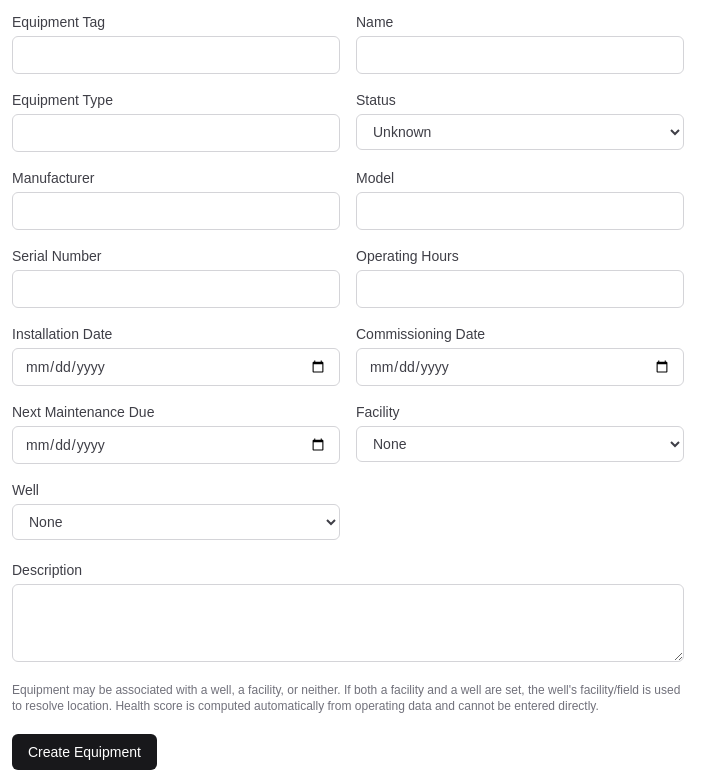
EquipmentForm › shows validation errors when required fields are missing
This screenshot has width=701, height=775.
Click the button "Create Equipment" at (84, 752), box [12, 734, 157, 770]
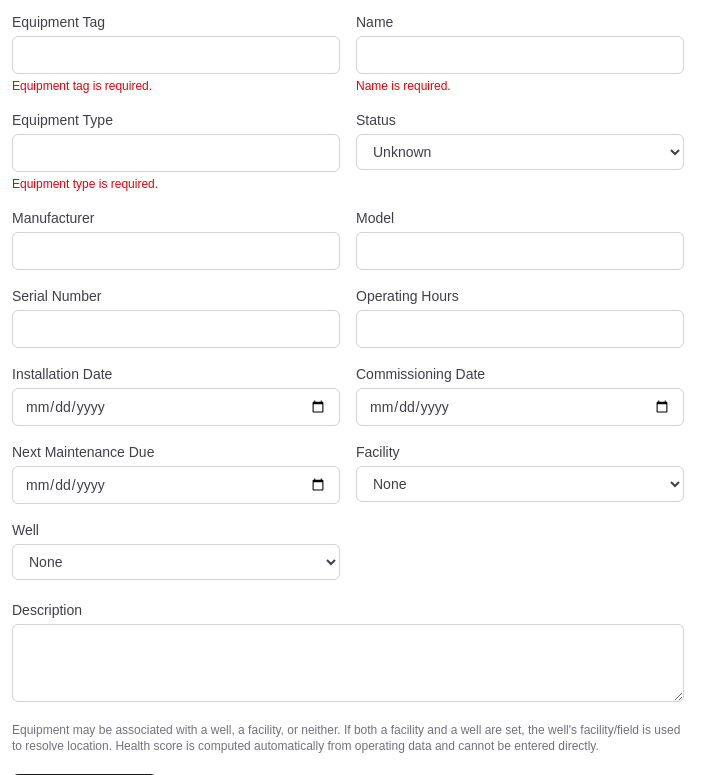
Expected: the text "Equipment tag is required." is shown, [12, 79, 152, 93]
Expected: the text "Name is required." is shown, [356, 79, 451, 93]
Expected: the text "Equipment type is required." is shown, [12, 177, 158, 191]
